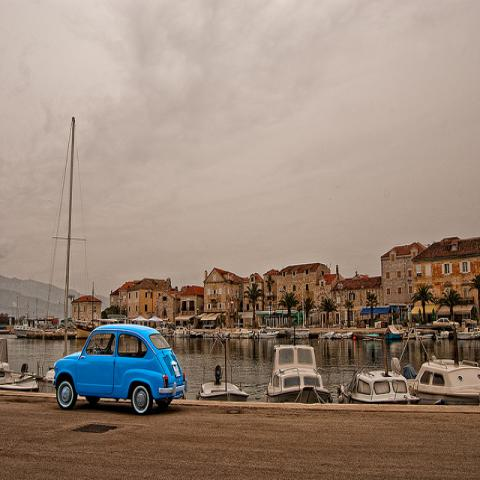car: (55, 328, 187, 415), (432, 317, 460, 329)
